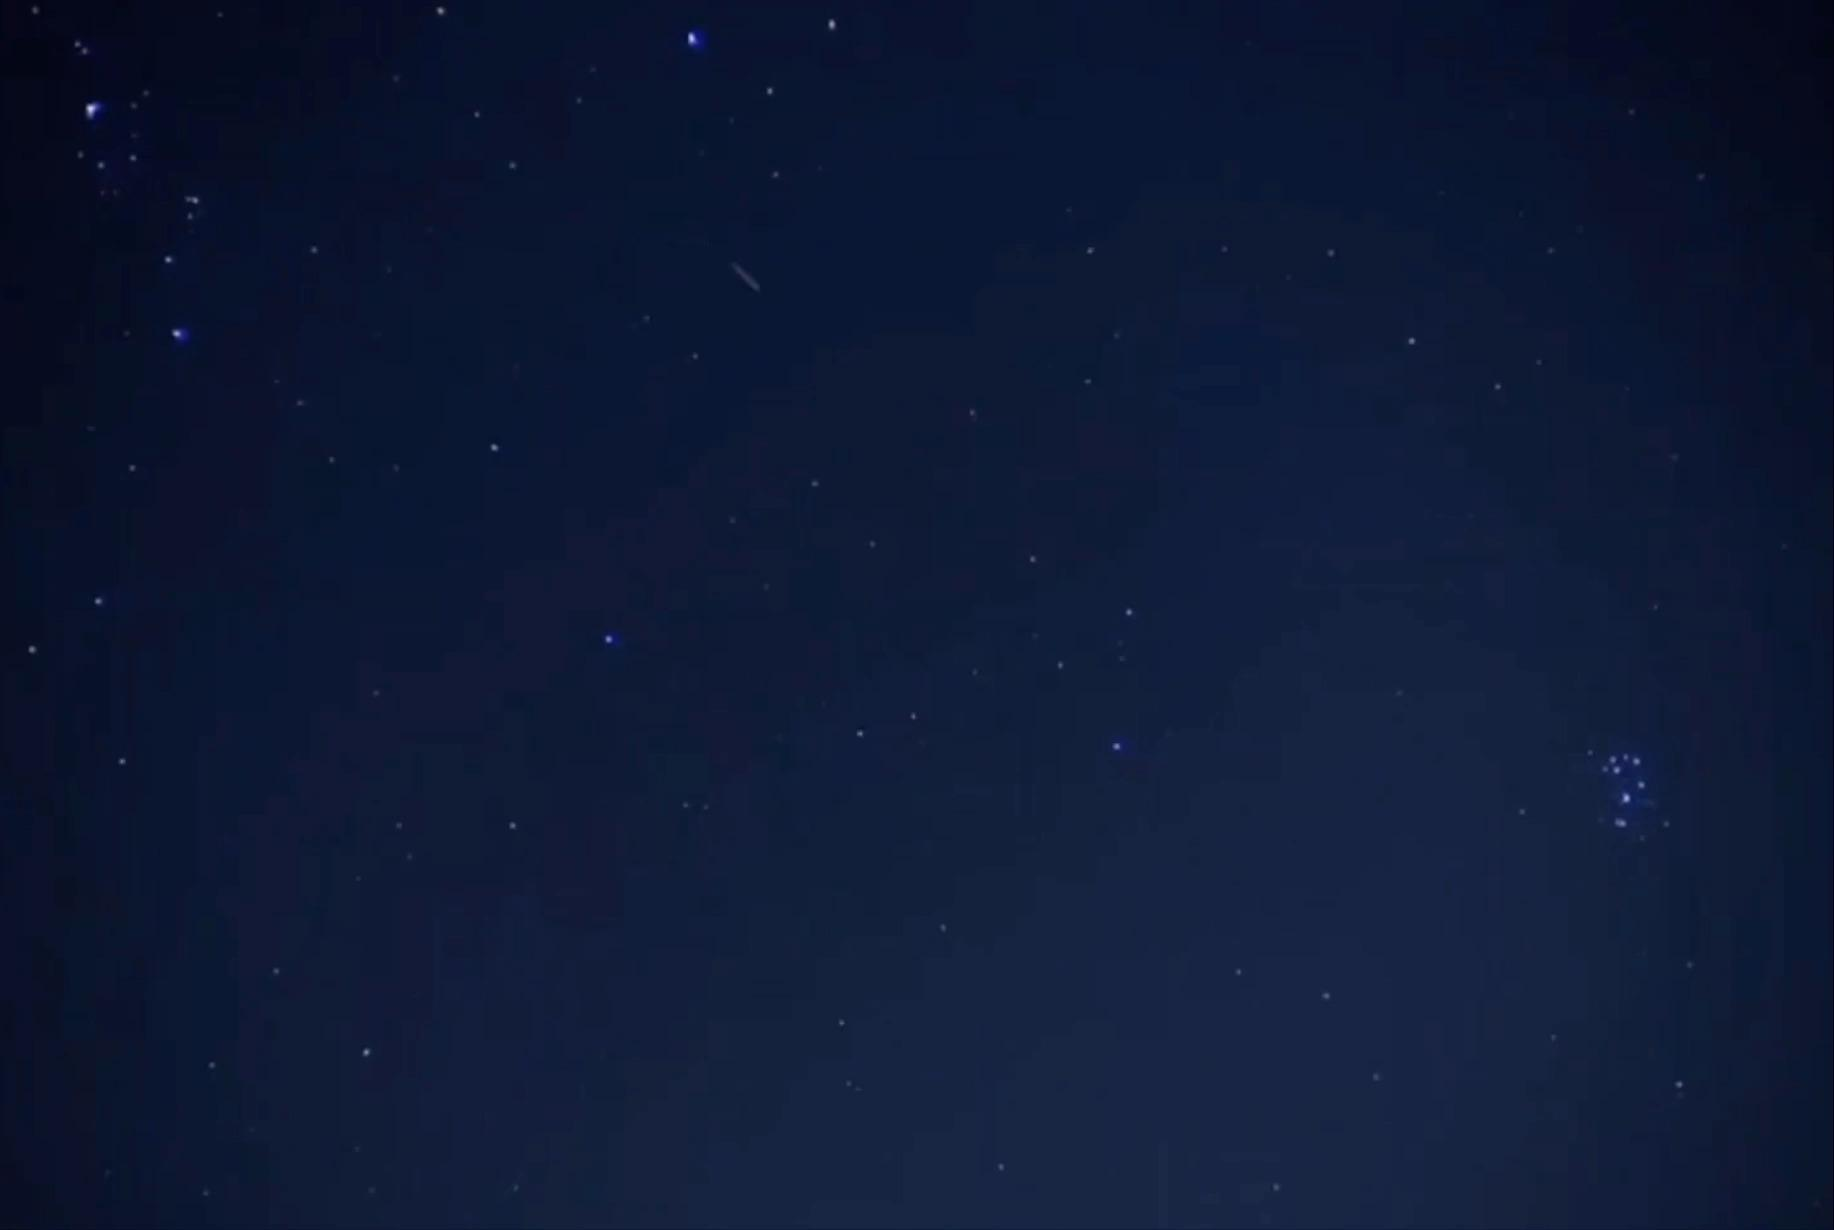meteorite: (681, 248, 802, 302)
